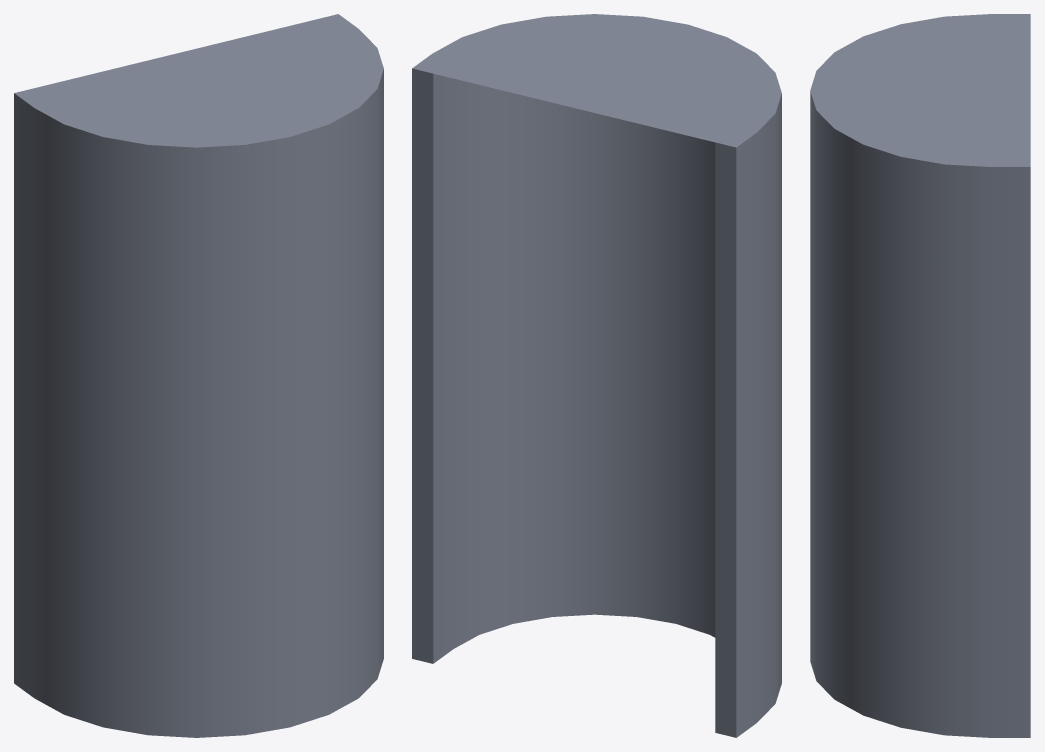
The model's file is track_halfpipe_8m.glb.
3 renders of one model, left to right at view 1: azimuth 30°, elevation 25°; view 2: azimuth 150°, elevation 25°; view 3: azimuth 270°, elevation 25°, orthographic. The views are drawn at different scales.
Parts seen in each view (by area): view 1: track_halfpipe_8m; view 2: track_halfpipe_8m; view 3: track_halfpipe_8m.
Boxes of the visible parts, bbox=[...] form: track_halfpipe_8m: bbox=[14, 14, 383, 737]; track_halfpipe_8m: bbox=[412, 14, 781, 737]; track_halfpipe_8m: bbox=[810, 14, 1030, 737].
Bounding box in the file's own units: 4.6 × 8 × 2.8.
